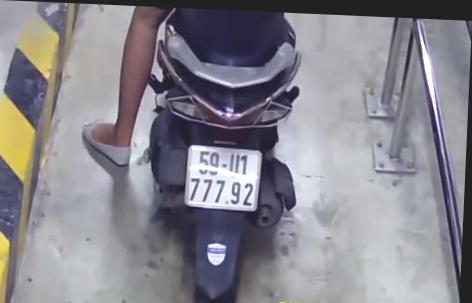License_Plate: (180, 144, 265, 215)
